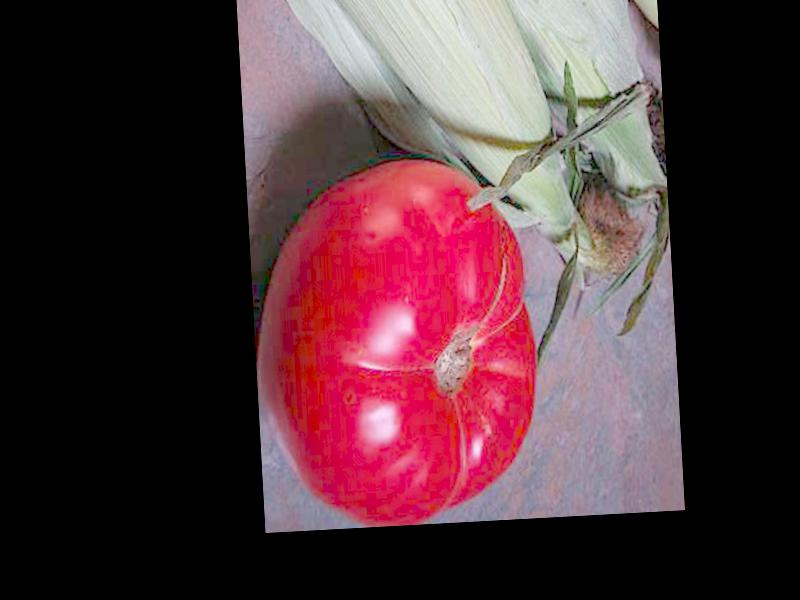Tomato: (249, 155, 545, 529)
